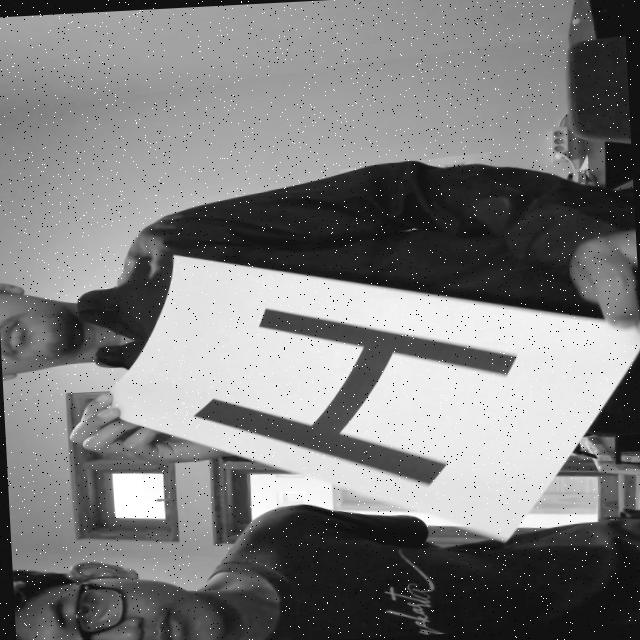h: (174, 291, 528, 498)
